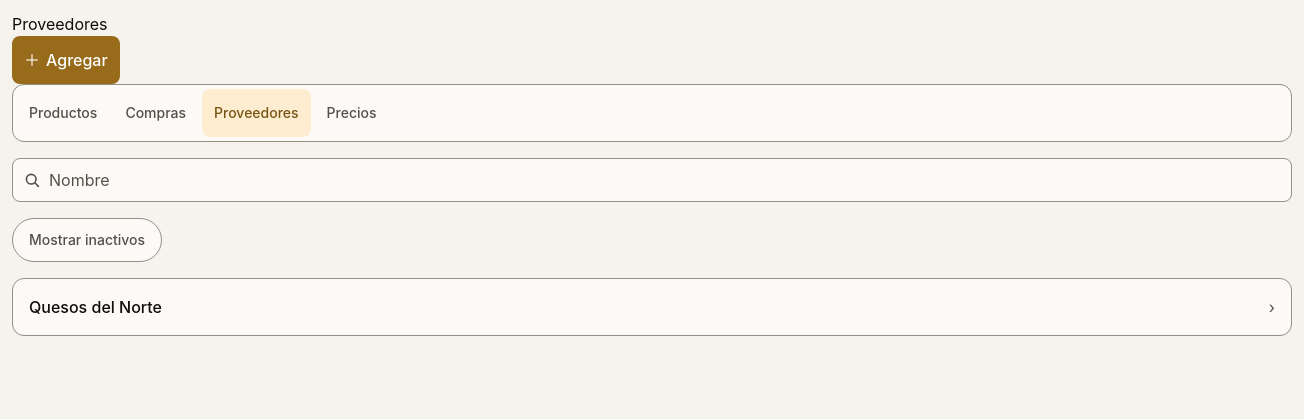
Test: Proveedores › "Mostrar inactivos" revela los proveedores desactivados, con badge "Inactivo" (tarea RE-1)
The width and height of the screenshot is (1304, 419).
Click the button "Mostrar inactivos" at (87, 240), box [12,218,162,262]
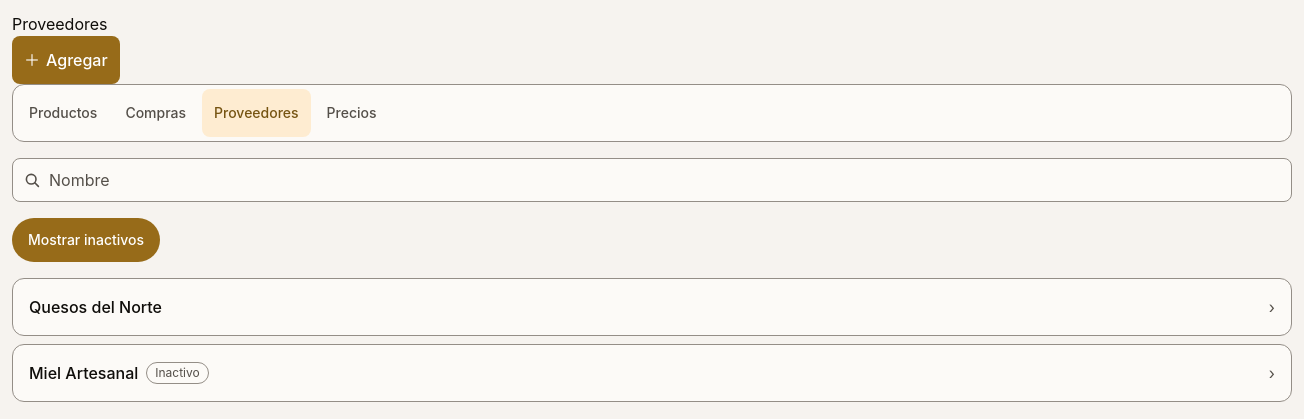
Expected: the text "Miel Artesanal" is shown, [29,361,138,385]
Expected: the text "Inactivo" is shown, [146,362,209,384]
